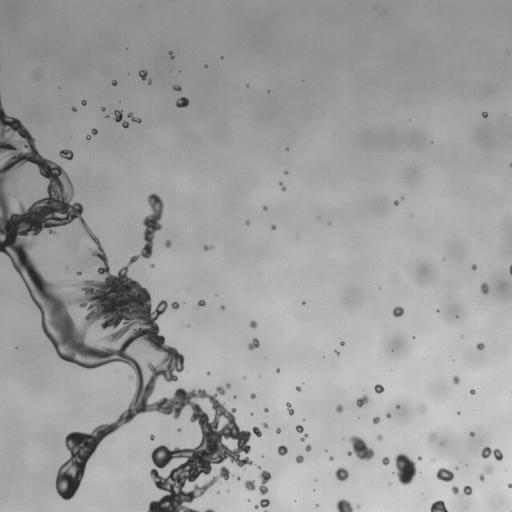droplet: (394, 453, 417, 485), (347, 435, 374, 460), (436, 468, 453, 482), (336, 499, 353, 511), (430, 500, 448, 511), (335, 467, 348, 481), (247, 337, 259, 350), (356, 395, 369, 407), (460, 485, 472, 497), (59, 149, 73, 159), (392, 306, 404, 317), (255, 499, 269, 508), (244, 479, 255, 490), (176, 97, 188, 107), (277, 445, 287, 455), (480, 283, 489, 294), (451, 485, 460, 495), (139, 69, 147, 80), (374, 384, 383, 393), (196, 300, 205, 308), (171, 301, 179, 309), (249, 320, 257, 328), (476, 342, 484, 350), (418, 405, 426, 413), (300, 433, 308, 441), (295, 455, 303, 463), (452, 375, 459, 384), (382, 456, 389, 465), (336, 404, 343, 412), (296, 425, 303, 433), (172, 85, 181, 91), (203, 245, 213, 250), (164, 240, 171, 247), (372, 416, 379, 423), (76, 270, 84, 276), (376, 434, 382, 441), (430, 434, 436, 440), (305, 445, 310, 451), (169, 51, 173, 58), (112, 80, 117, 85), (81, 100, 86, 105), (482, 112, 487, 117), (394, 200, 399, 205), (262, 205, 267, 210), (270, 224, 275, 229), (334, 350, 339, 355), (296, 386, 301, 391), (470, 389, 475, 394), (250, 393, 255, 398), (386, 413, 391, 418), (469, 431, 474, 436), (150, 434, 154, 440), (245, 220, 249, 225), (472, 264, 476, 269), (220, 305, 225, 309), (263, 423, 267, 428), (276, 428, 280, 433), (329, 456, 334, 460), (72, 107, 76, 111), (101, 107, 105, 111), (340, 341, 344, 345), (206, 371, 210, 375), (128, 375, 132, 379), (264, 408, 268, 412), (236, 476, 240, 480), (508, 483, 511, 488), (284, 171, 288, 174), (396, 404, 399, 408), (177, 428, 181, 431), (256, 465, 260, 468), (357, 504, 360, 508), (148, 80, 151, 83), (400, 196, 403, 199), (302, 301, 305, 304), (276, 369, 279, 372), (509, 163, 511, 167), (246, 84, 248, 87), (286, 147, 288, 150), (151, 264, 153, 267), (243, 376, 245, 379), (457, 412, 460, 414), (432, 458, 434, 461), (455, 467, 458, 469), (216, 491, 219, 493), (316, 504, 318, 507), (106, 115, 108, 117), (419, 457, 421, 459)
ligament: (0, 100, 261, 511), (481, 446, 503, 461), (259, 470, 271, 494), (114, 110, 128, 128), (479, 464, 493, 481), (127, 112, 141, 122), (86, 128, 97, 140), (286, 402, 294, 415), (278, 181, 286, 191), (204, 509, 215, 511), (509, 265, 511, 275)
